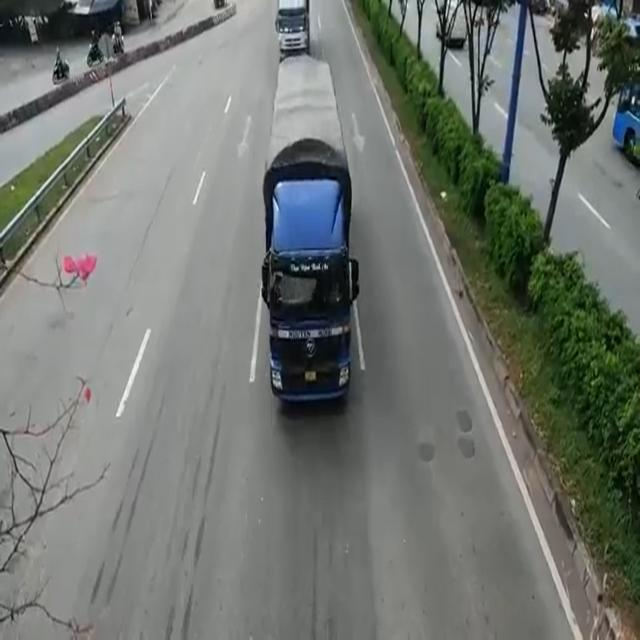truck: (269, 58, 349, 418)
